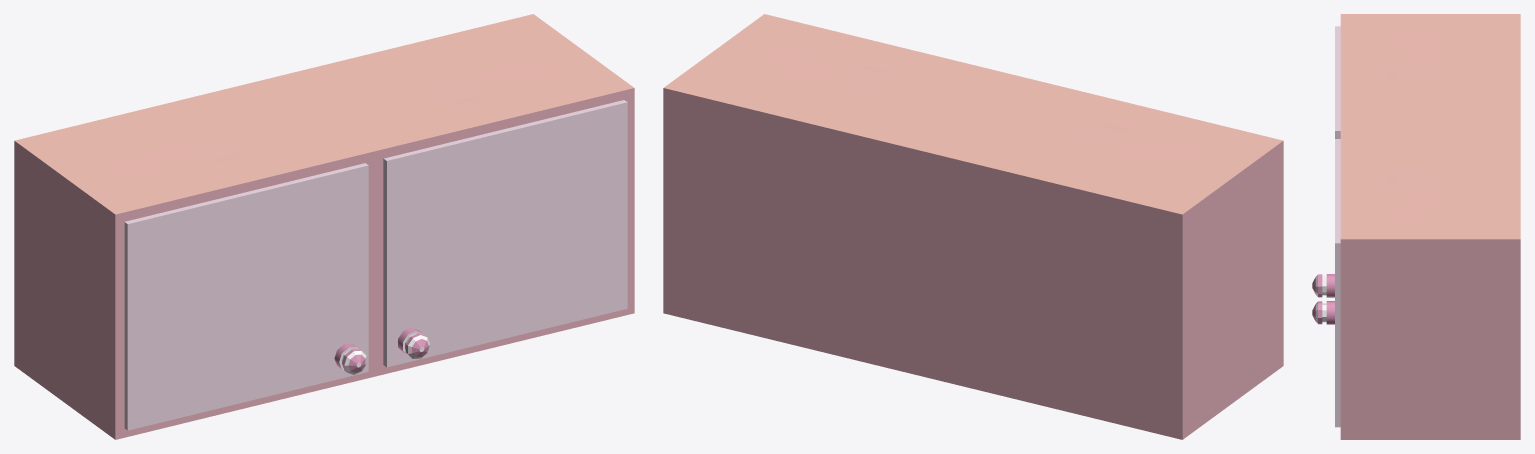
Rendered from Cabinet_Pink_Upper2.fbx.
3 views of the same model, side by side, from view 1: azimuth 30°, elevation 25°; view 2: azimuth 150°, elevation 25°; view 3: azimuth 270°, elevation 25° (orthographic). The views are drawn at different scales.
Parts seen in each view (by area): view 1: Cabinet_Pink_Upper2.002, Cabinet_Pink_Upper2, Cabinet_Pink_Upper2.001; view 2: Cabinet_Pink_Upper2.002; view 3: Cabinet_Pink_Upper2.002, Cabinet_Pink_Upper2, Cabinet_Pink_Upper2.001.
Boxes of the visible parts, left/top/right/bottom form: Cabinet_Pink_Upper2.002: left=14, top=14, right=634, bottom=439; Cabinet_Pink_Upper2: left=383, top=100, right=627, bottom=367; Cabinet_Pink_Upper2.001: left=124, top=163, right=368, bottom=430; Cabinet_Pink_Upper2.002: left=663, top=14, right=1283, bottom=439; Cabinet_Pink_Upper2.002: left=1340, top=14, right=1520, bottom=439; Cabinet_Pink_Upper2: left=1312, top=139, right=1340, bottom=427; Cabinet_Pink_Upper2.001: left=1312, top=26, right=1340, bottom=297.
Size of the model in its own units: 200 by 82.98 by 78.12.
